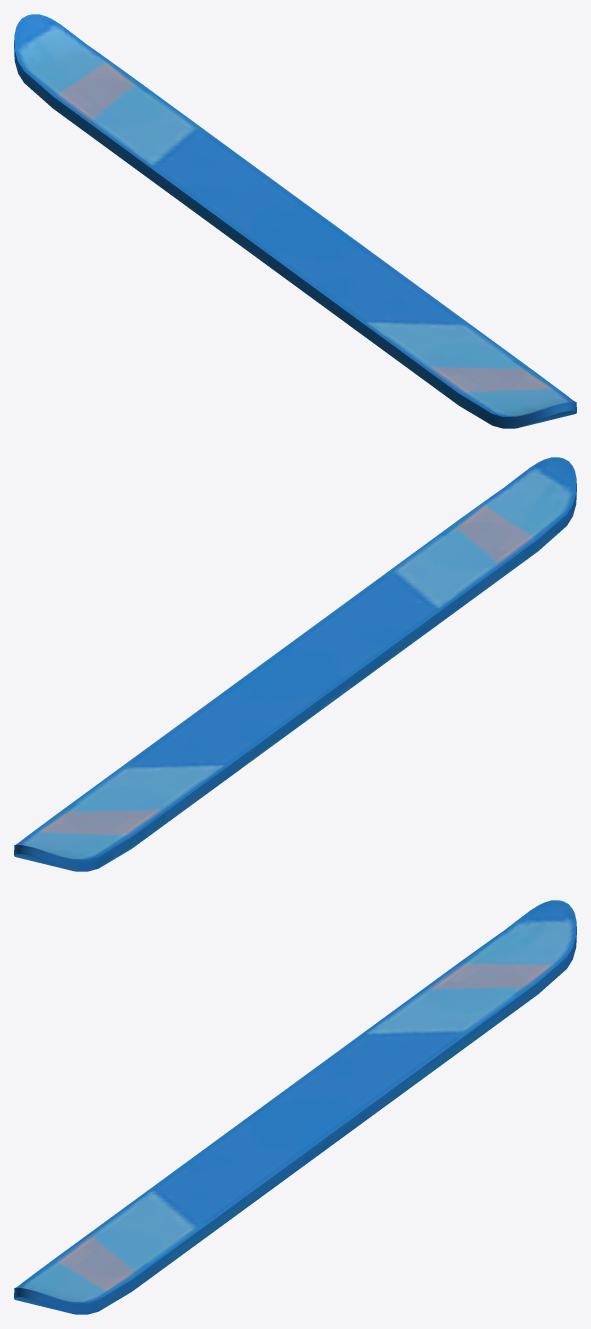
Rendered from pref_sm_beach_winter_hxb01_lv3.fbx.
3 renders of one model, top to bottom at view 1: azimuth 30°, elevation 25°; view 2: azimuth 150°, elevation 25°; view 3: azimuth 330°, elevation 25°, orthographic.
Visible parts, largest first — view 1: pref_sm_beach_winter_hxb01_lv3; view 2: pref_sm_beach_winter_hxb01_lv3; view 3: pref_sm_beach_winter_hxb01_lv3.
Part boxes in pixels (x1=…): pref_sm_beach_winter_hxb01_lv3: x1=14, y1=14, x2=576, y2=428; pref_sm_beach_winter_hxb01_lv3: x1=14, y1=457, x2=576, y2=871; pref_sm_beach_winter_hxb01_lv3: x1=14, y1=900, x2=576, y2=1314.
Size of the model in its own units: 0.2208 by 0.1011 by 2.57.
